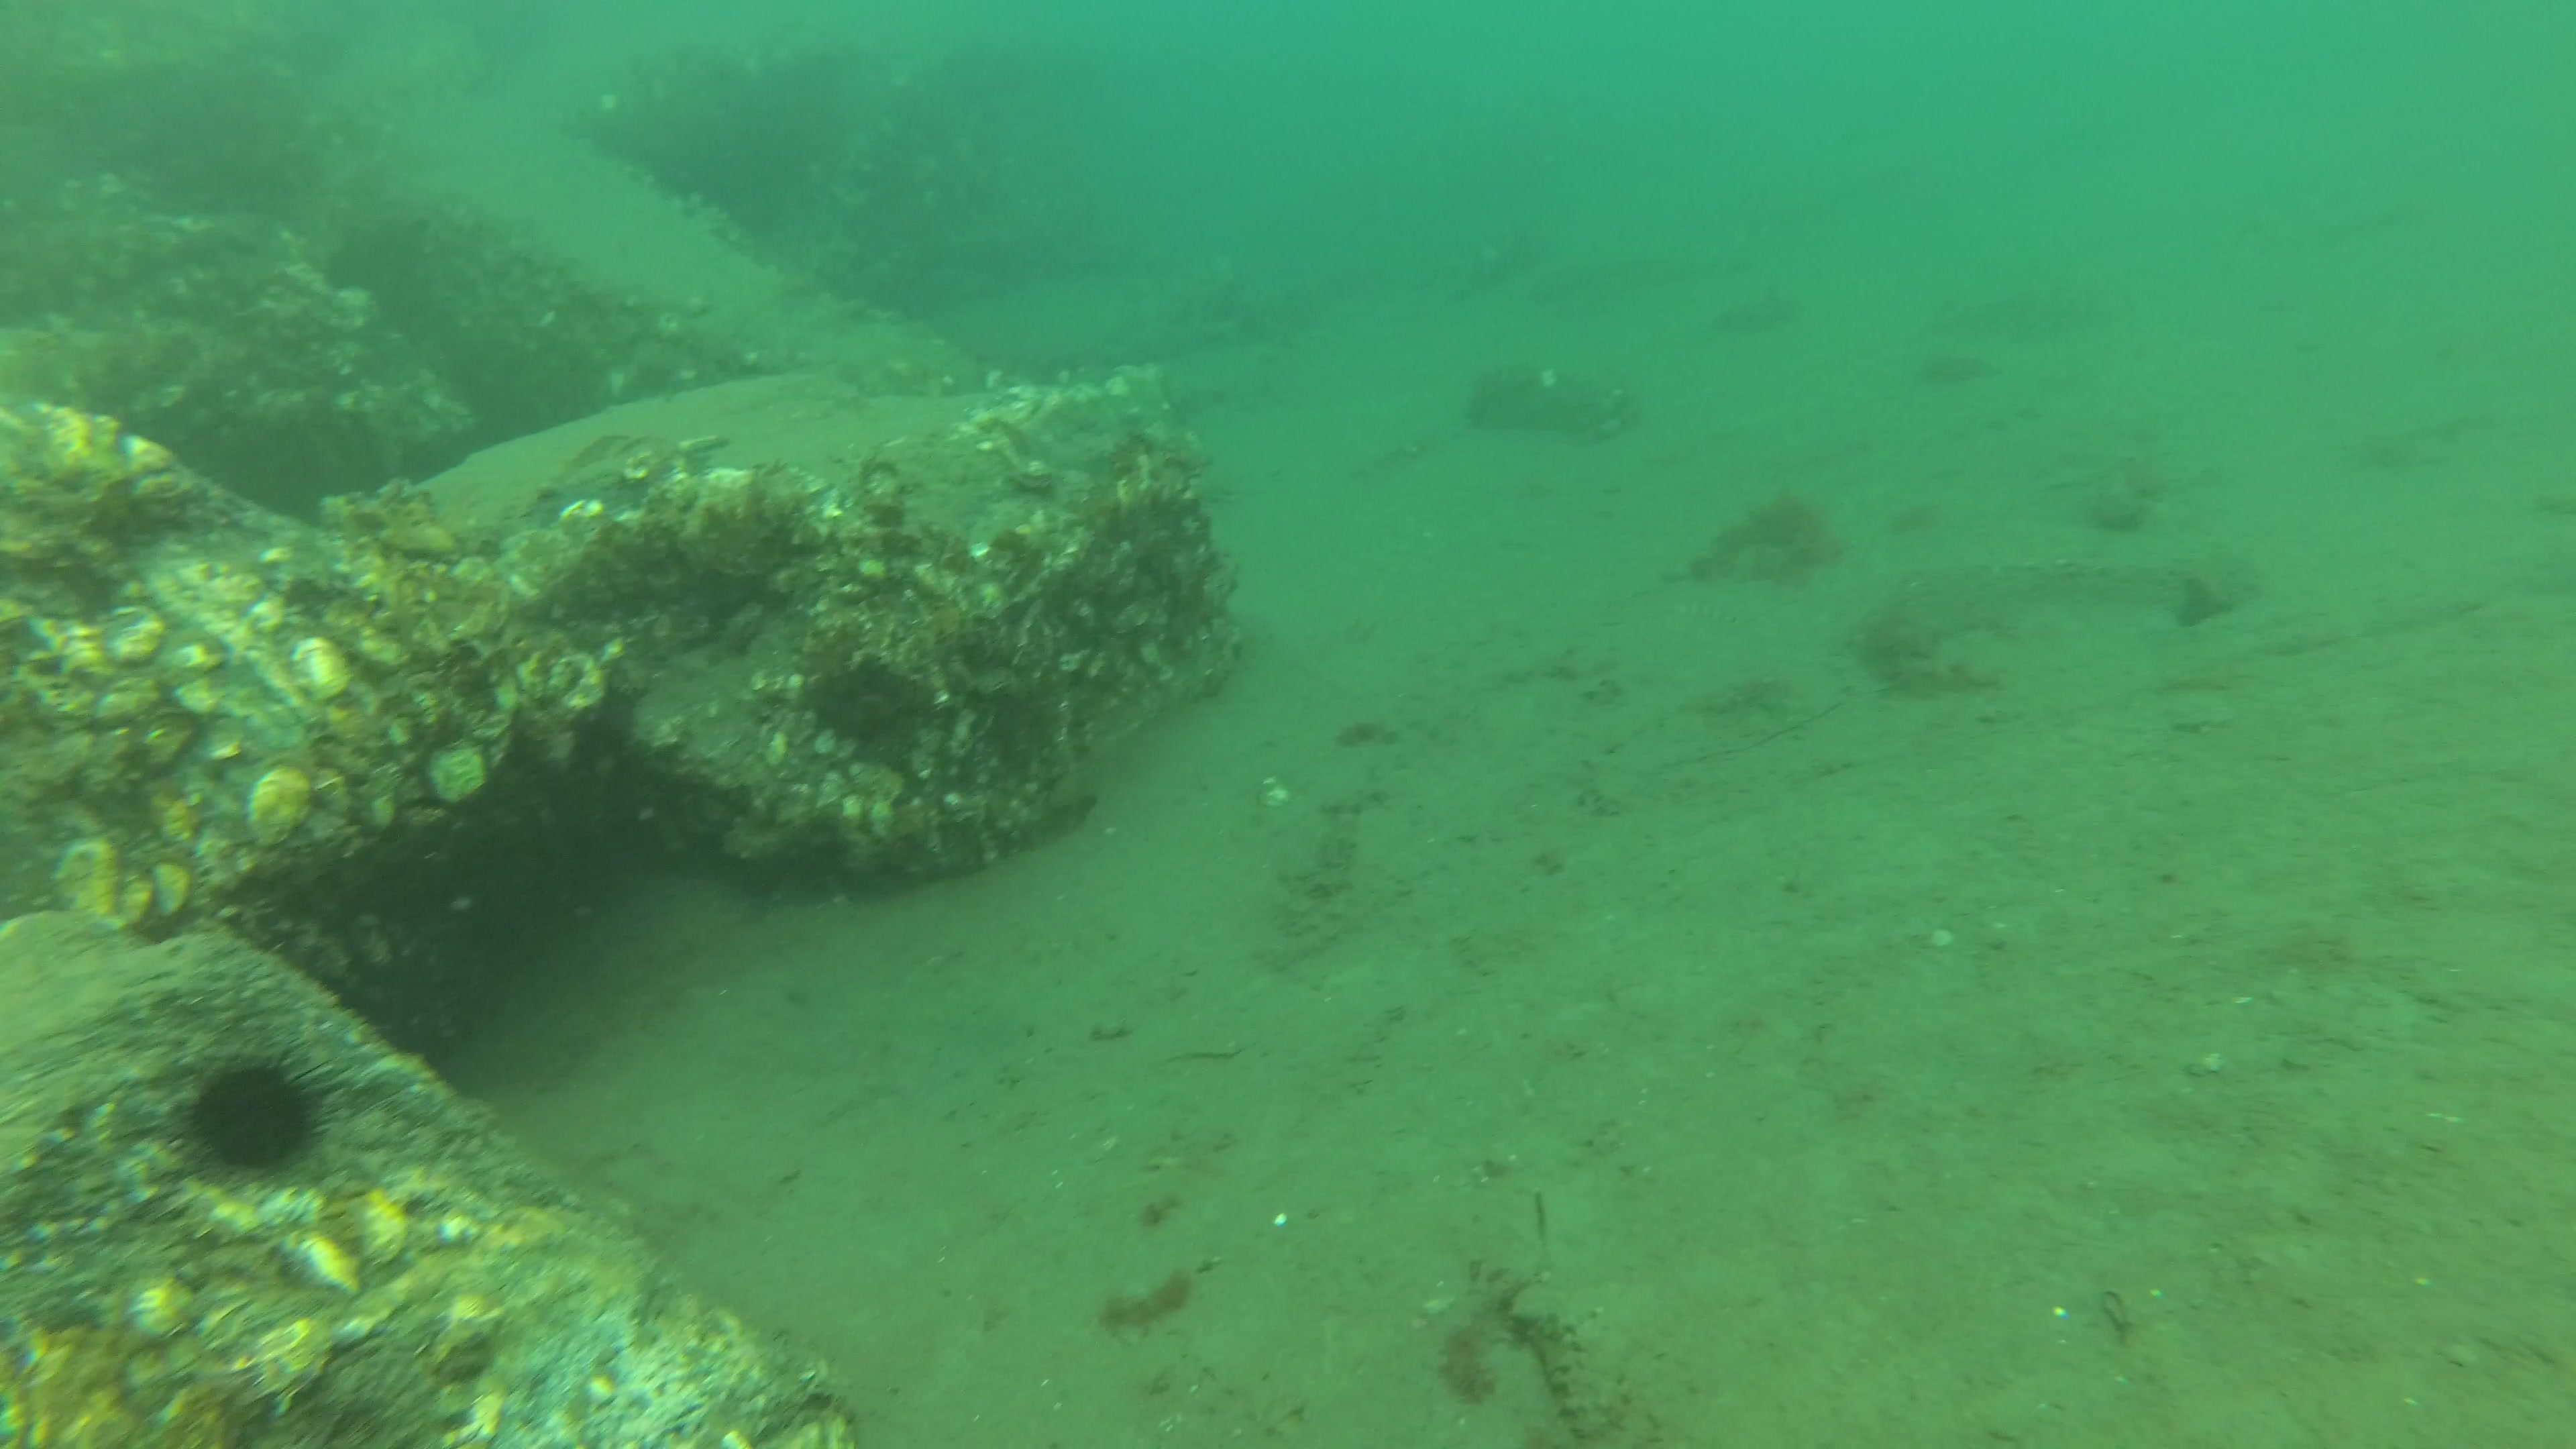echinus: (163, 1044, 343, 1177)
